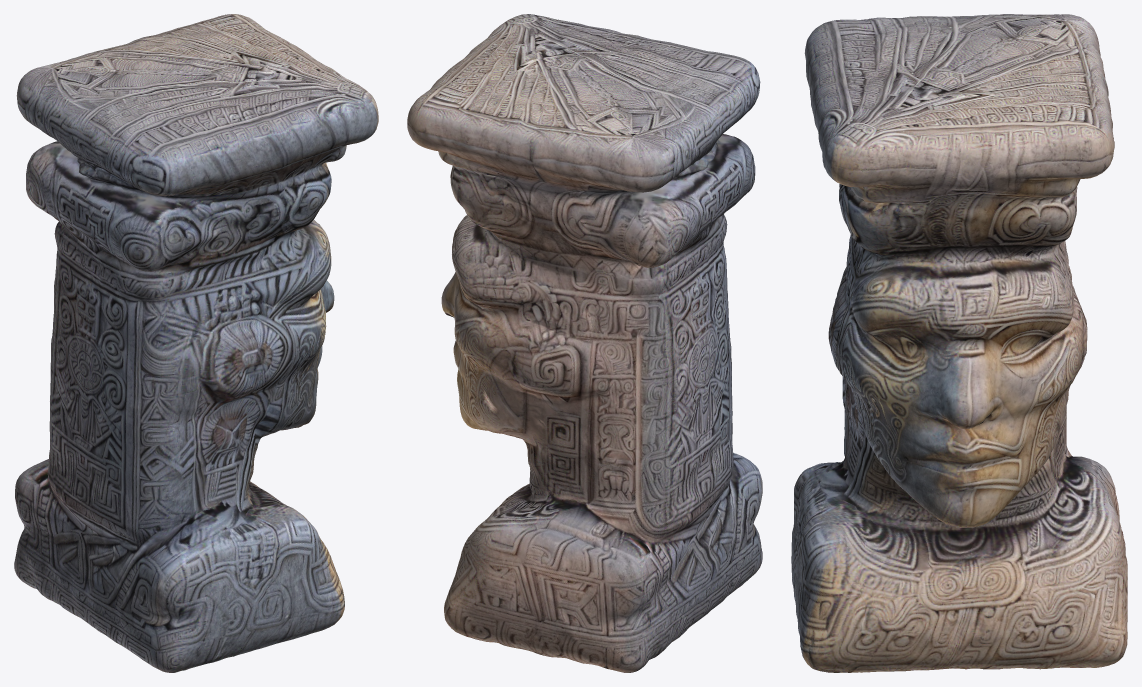
Rendered from Idol3D.fbx.
3 renders of one model, left to right at view 1: azimuth 30°, elevation 25°; view 2: azimuth 150°, elevation 25°; view 3: azimuth 270°, elevation 25°, orthographic. The views are drawn at different scales.
Visible parts, largest first — view 1: Mesh_0; view 2: Mesh_0; view 3: Mesh_0.
Part boxes in pixels (x1,y1,x2,y2): Mesh_0: (14,14,378,672); Mesh_0: (407,14,762,672); Mesh_0: (791,14,1127,672).
Bounding box in the file's own units: 61.88 × 120 × 61.62.
1 material, 1 textured.
